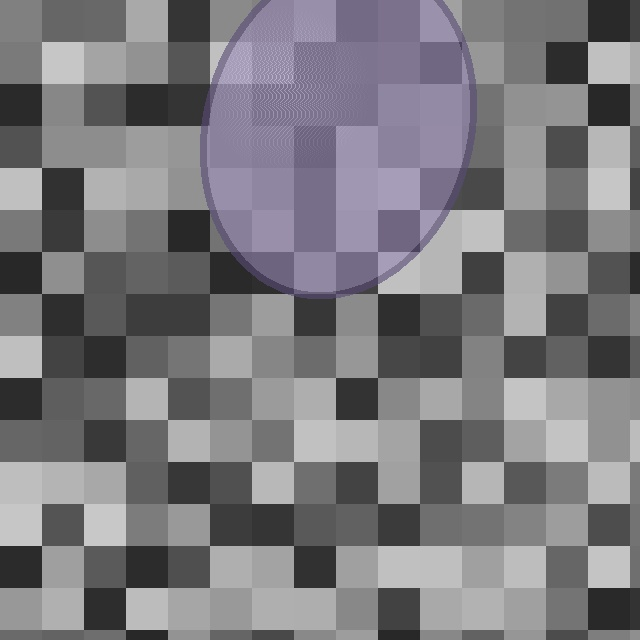lens: (203, 0, 473, 295)
